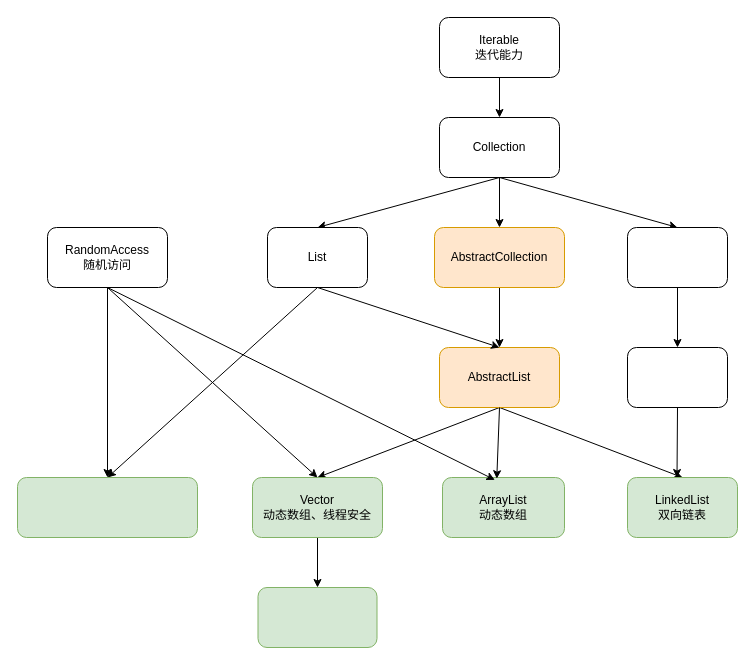
This 755x665 diagram has some shape labels left out. Each missing label, with the centre of its shape:
CopyOnWriteArrayList JUC、写时复制、线程安全: the point at 107,507
Deque 双端队列: the point at 677,377
Queue: the point at 677,257
Stack 栈: the point at 317,617
